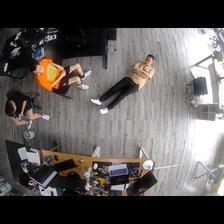fall: (93, 54, 155, 111)
normal: (32, 57, 90, 93), (6, 93, 52, 130)
